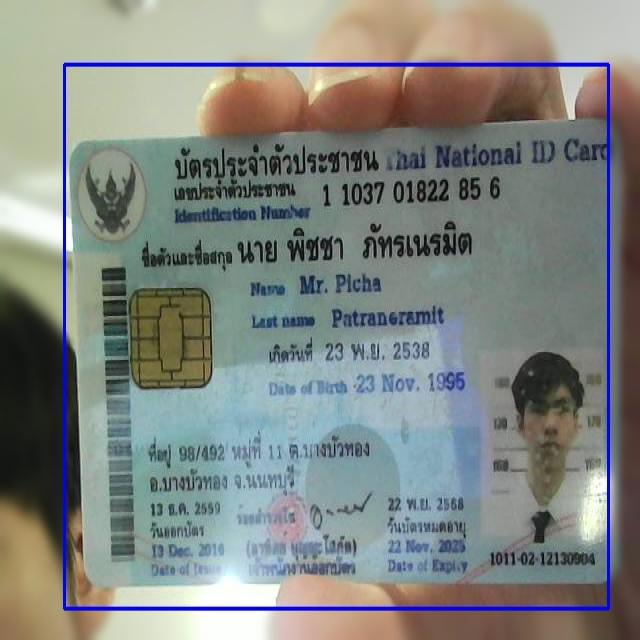Address_th: (140, 427, 374, 503)
Date_of_Birth: (354, 366, 468, 400)
Date_of_Expiry: (382, 532, 473, 560)
Date_of_Issue: (148, 540, 228, 560)
First_Name: (297, 268, 383, 300)
ID_Number: (320, 175, 505, 209)
Image: (481, 348, 607, 540)
Last_Name: (329, 302, 449, 331)
Thai_Name: (236, 216, 480, 268)
